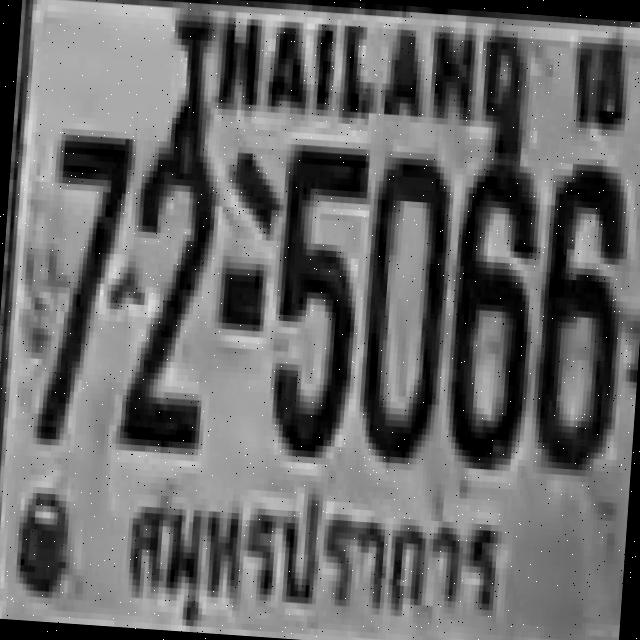0: (352, 149, 449, 459)
2: (114, 130, 218, 446)
5: (266, 137, 366, 453)
6: (528, 156, 628, 466), (442, 152, 540, 462)
7: (33, 127, 134, 443)
SamutPrakan: (113, 475, 506, 640)
